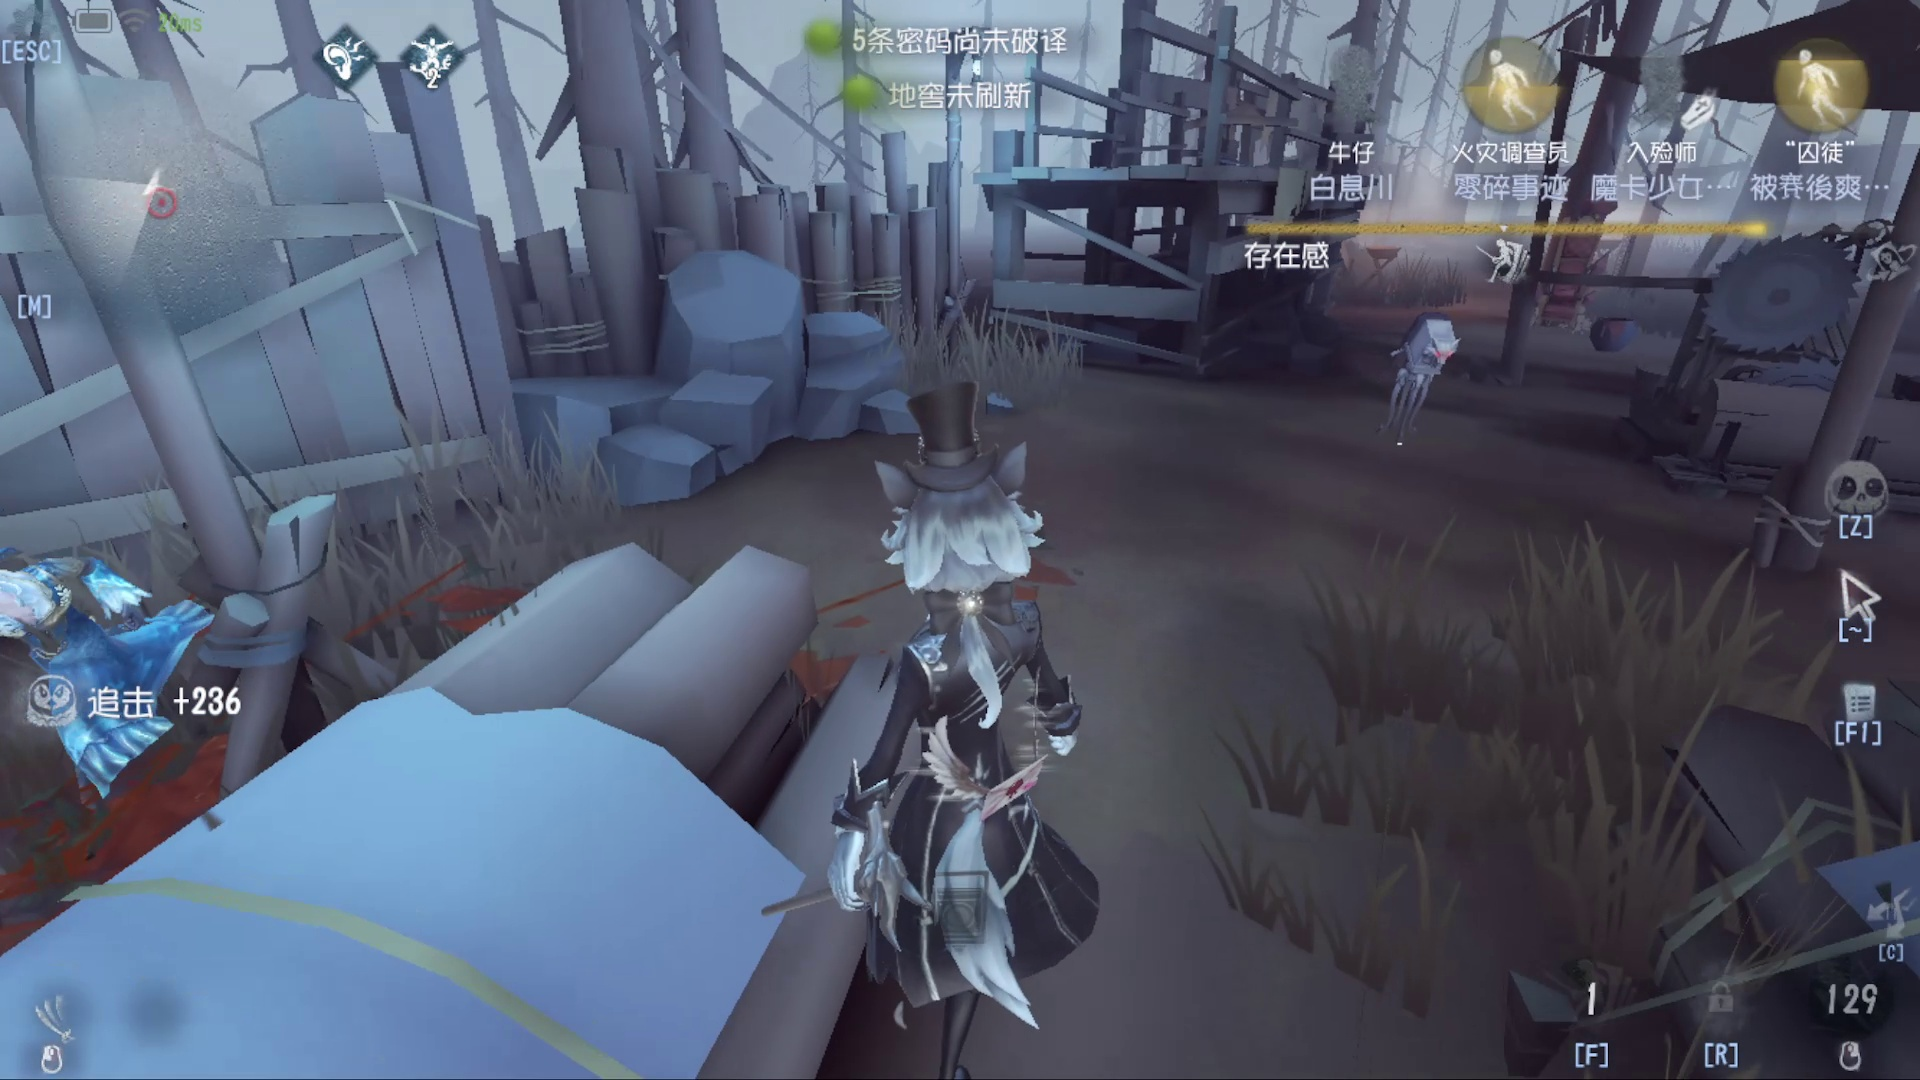求生者: (3, 535, 239, 773)
狂欢之椅: (1552, 169, 1610, 349)
